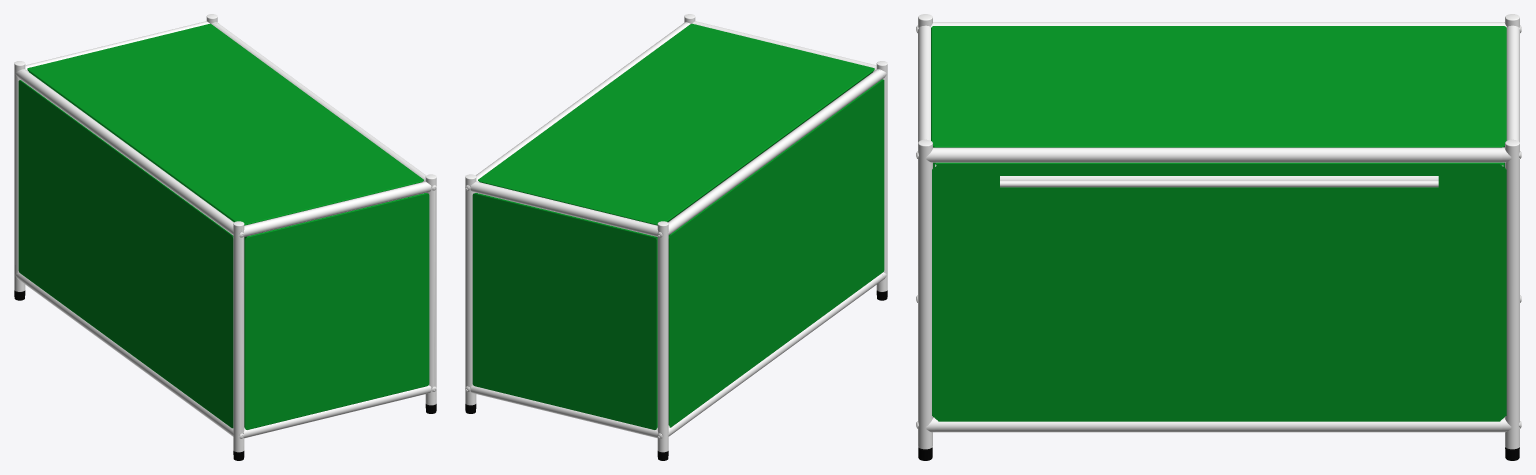
The model's file is 80x40x40-1-4-green_optimized_optimized.glb.
The picture shows the model from 3 angles, left to right: view 1: azimuth 30°, elevation 25°; view 2: azimuth 150°, elevation 25°; view 3: azimuth 270°, elevation 25°; orthographic projection. The views are drawn at different scales.
Parts seen in each view (by area): view 1: 直角鐵板-80x40-5 - 零件, new-上塞-1 - 零件; view 2: 直角鐵板-80x40-5 - 零件, new-上塞-1 - 零件; view 3: 直角鐵板-80x40-5 - 零件, new-上塞-1 - 零件.
Boxes of the visible parts, bbox=[...] form: 直角鐵板-80x40-5 - 零件: bbox=[18, 23, 429, 429]; new-上塞-1 - 零件: bbox=[14, 14, 436, 452]; 直角鐵板-80x40-5 - 零件: bbox=[472, 23, 884, 429]; new-上塞-1 - 零件: bbox=[465, 14, 887, 452]; 直角鐵板-80x40-5 - 零件: bbox=[931, 26, 1506, 421]; new-上塞-1 - 零件: bbox=[916, 14, 1521, 449].
Bounding box in the file's own units: 0.4198 × 0.4453 × 0.7732.
